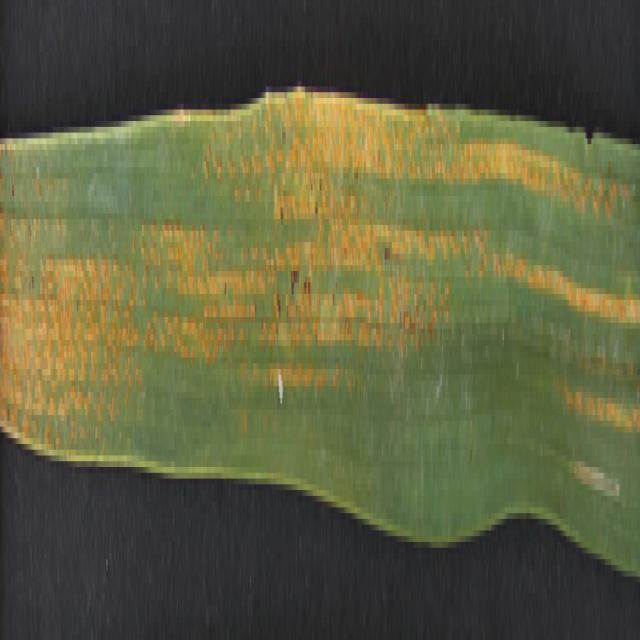leaf rust: (0, 110, 638, 472)
